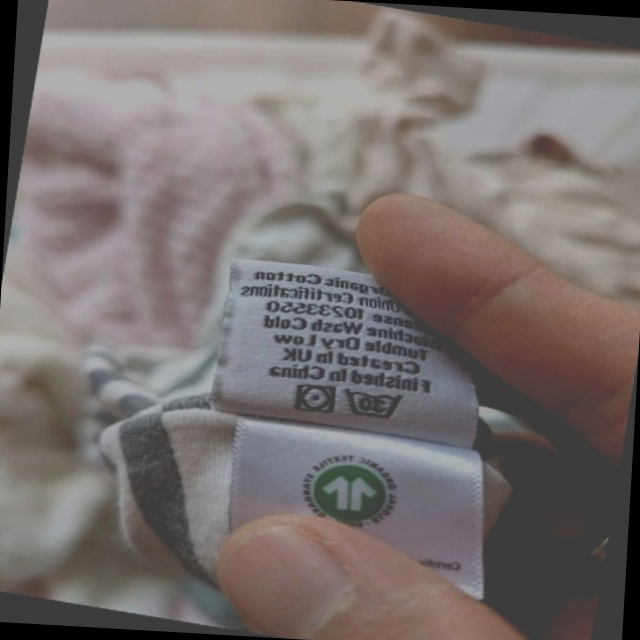30C: (338, 381, 409, 426)
tumble_dry_low: (290, 378, 340, 420)
